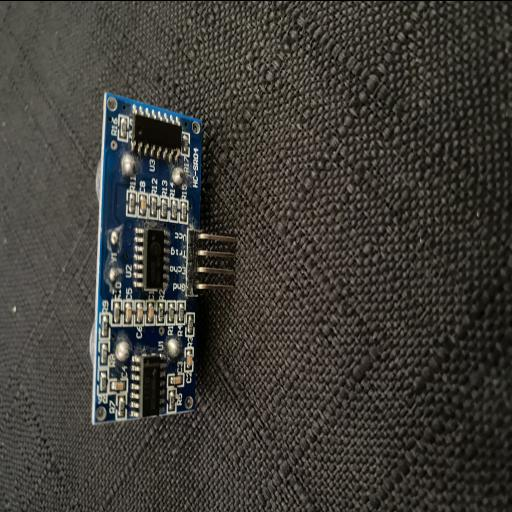Ultrasonic Sensor: (89, 90, 237, 424)
